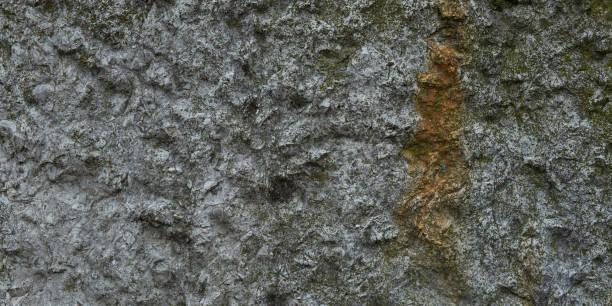Corrosion: (389, 1, 467, 261)
